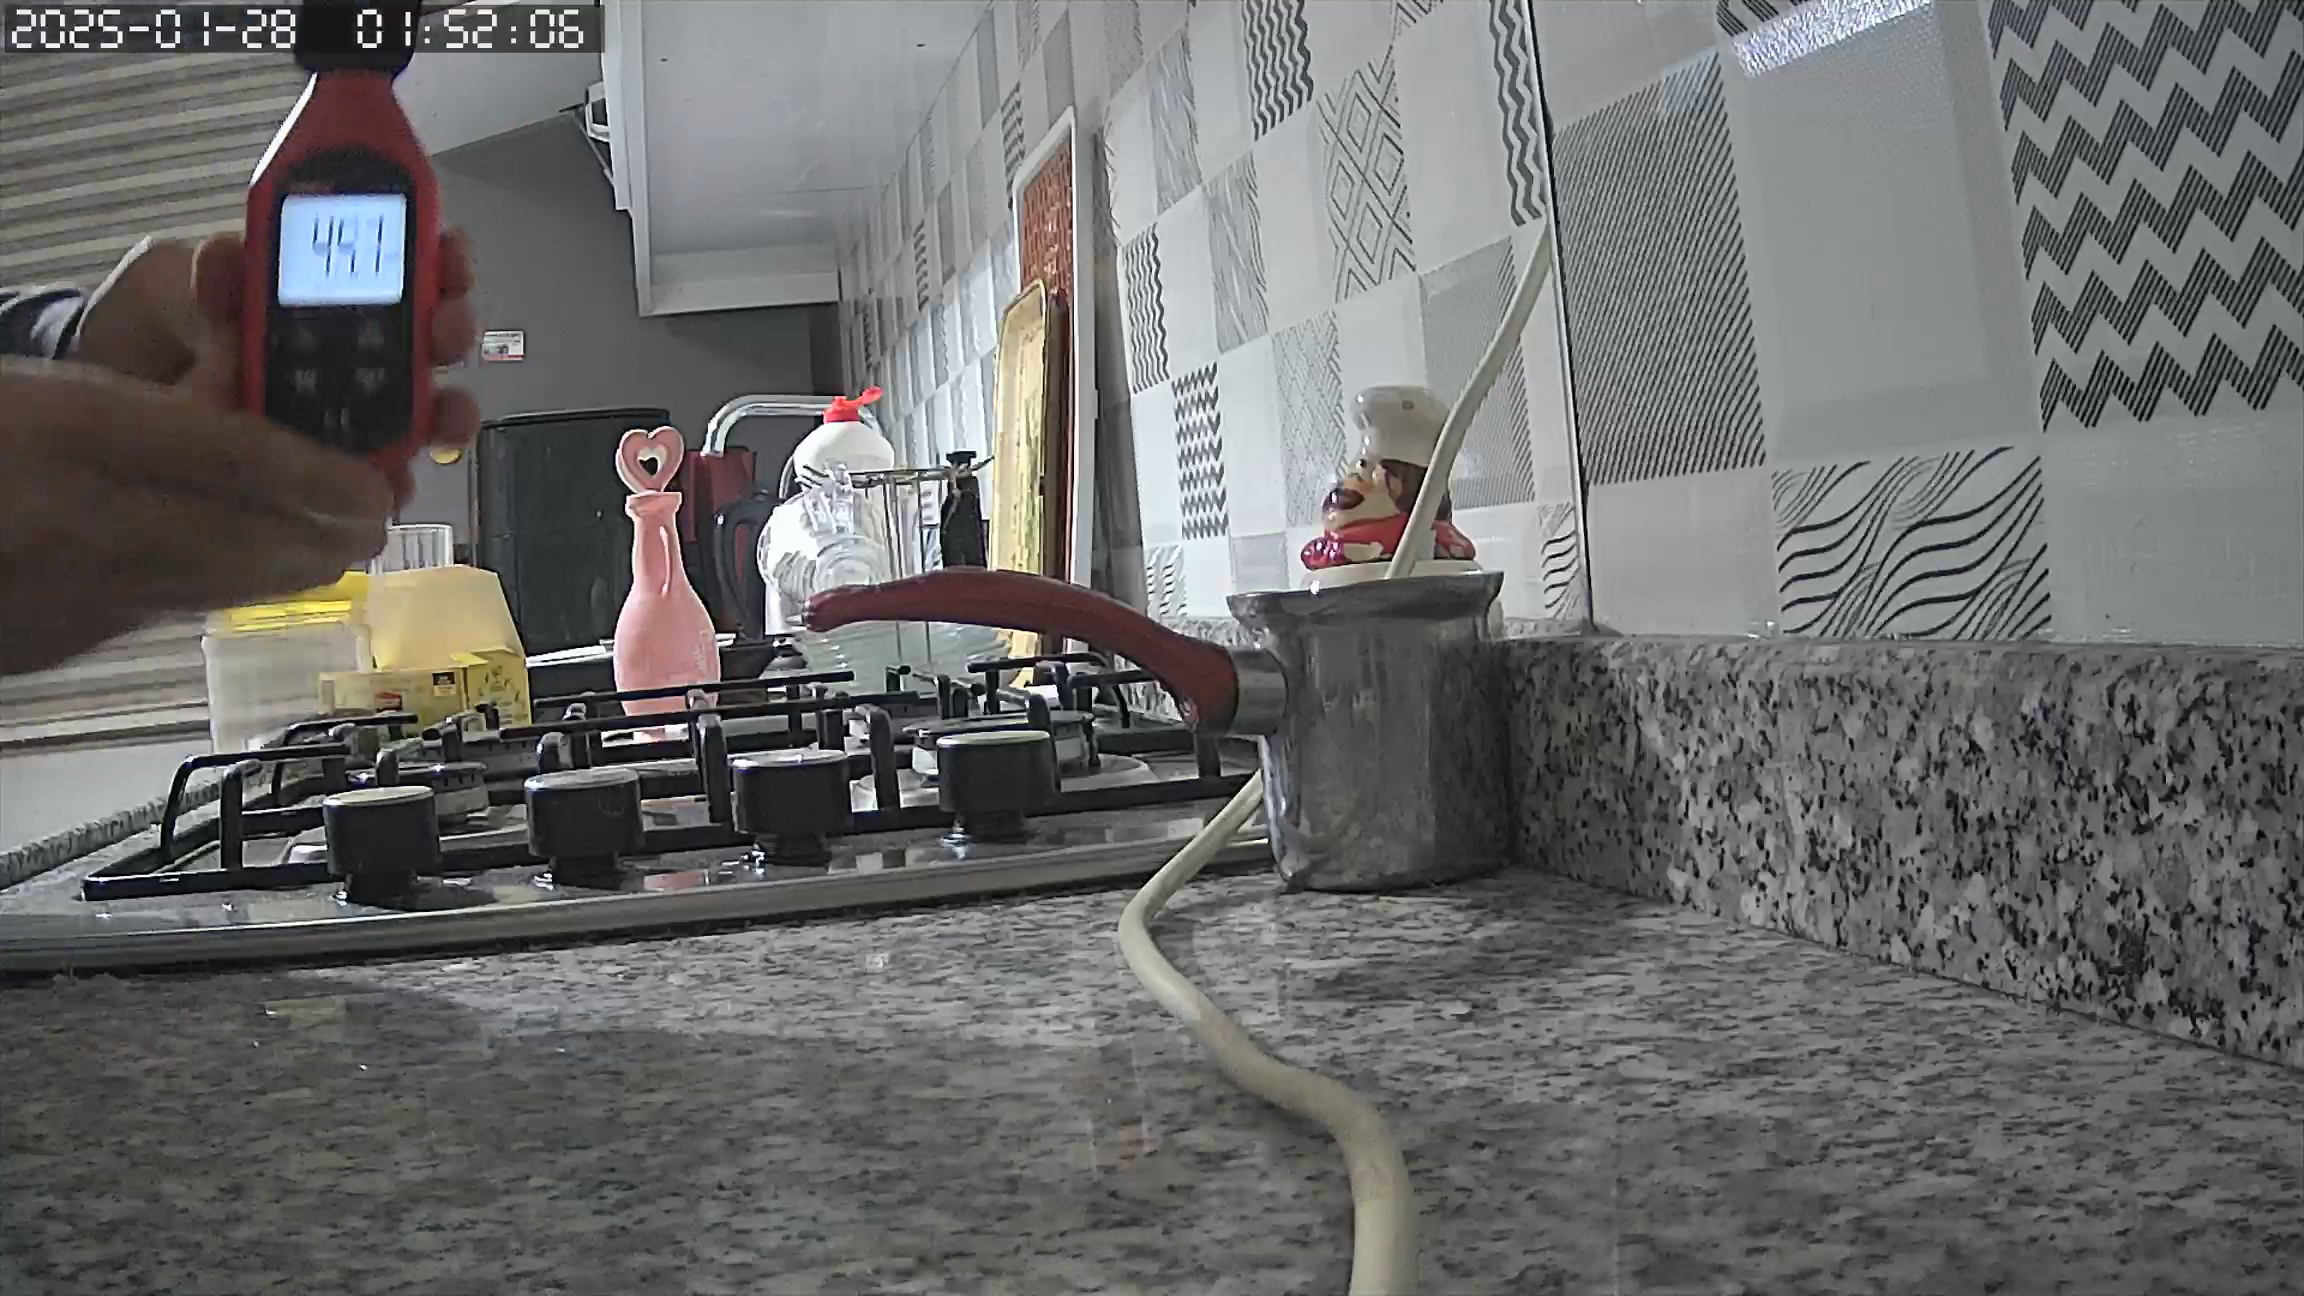screen: (279, 195, 408, 305)
